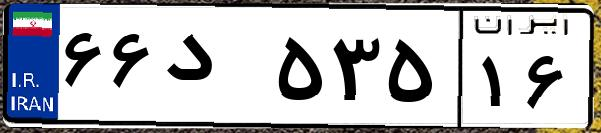1: (475, 38, 525, 113)
3: (330, 28, 385, 110)
5: (270, 28, 330, 110), (385, 28, 445, 110)
6: (57, 26, 110, 100), (525, 38, 570, 115), (110, 28, 158, 98)
د: (158, 20, 270, 120)
